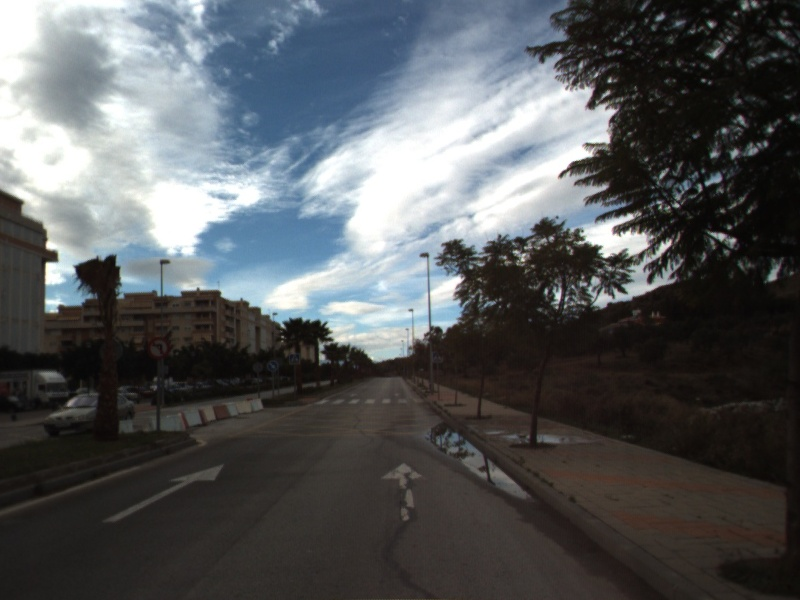STRAIGHT: (100, 462, 226, 524), (379, 460, 430, 523)
